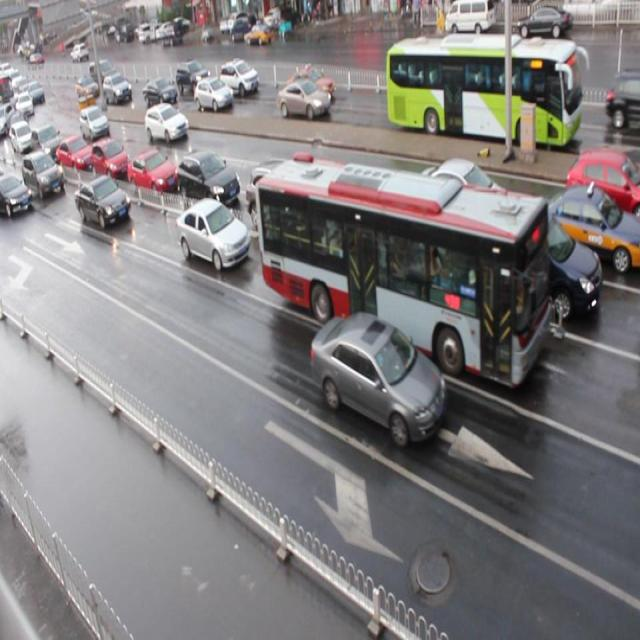car: (309, 314, 444, 445), (528, 185, 640, 274), (414, 156, 513, 237), (340, 186, 430, 270), (246, 159, 328, 232), (565, 148, 640, 225), (177, 196, 250, 271), (176, 149, 240, 205), (74, 173, 130, 231), (129, 145, 177, 193), (278, 79, 330, 120), (22, 153, 65, 201), (145, 102, 190, 143), (286, 67, 336, 102), (57, 132, 94, 175), (220, 59, 260, 97), (89, 137, 127, 176), (0, 173, 32, 218), (194, 78, 234, 114), (176, 59, 210, 94), (30, 125, 61, 163), (80, 107, 111, 143), (143, 78, 178, 107), (102, 74, 132, 105)
truck: (460, 193, 603, 325)
van: (258, 154, 548, 388), (384, 37, 578, 148)
